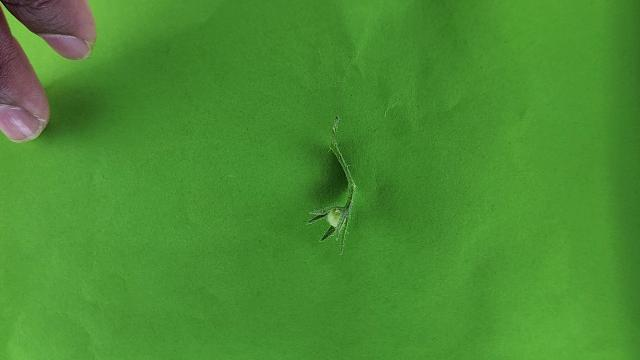Fruit Bud: (306, 204, 349, 245)
